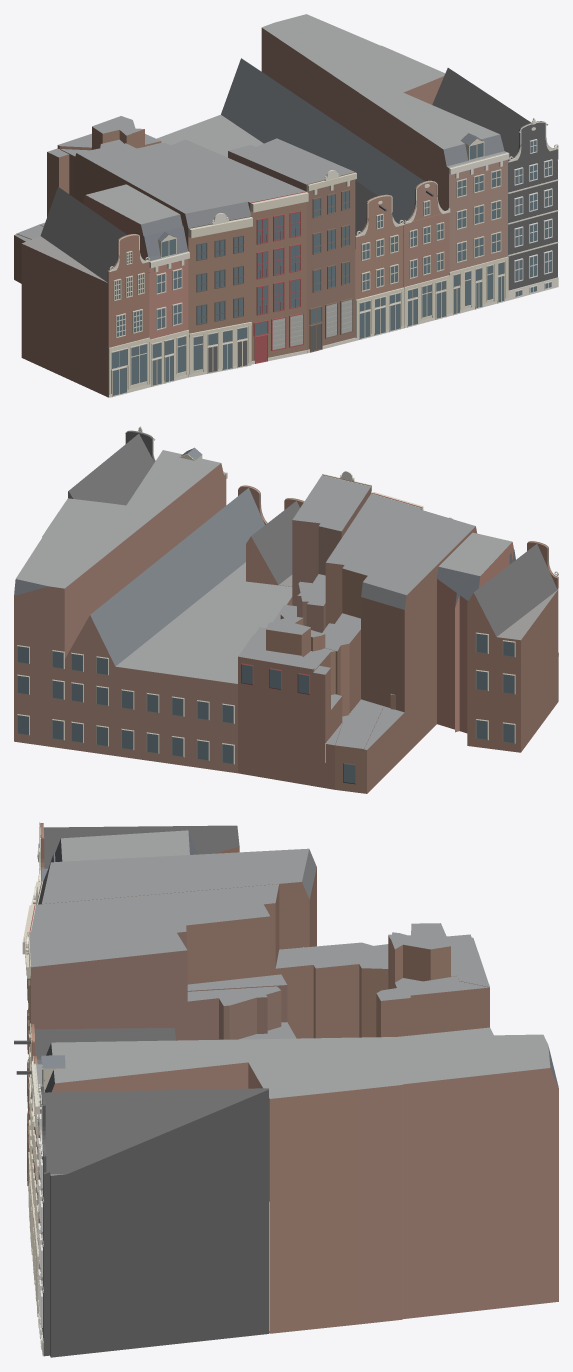
File: chunk-face-wallen-oza-41-57.glb
3 renders of one model, top to bottom at view 1: azimuth 30°, elevation 25°; view 2: azimuth 150°, elevation 25°; view 3: azimuth 270°, elevation 25°, orthographic. The views are drawn at different scales.
Parts seen in each view (by area): view 1: face-wallen-oza-41-57; view 2: face-wallen-oza-41-57; view 3: face-wallen-oza-41-57.
Part boxes in pixels (x1,y1,x2,y2): face-wallen-oza-41-57: (14,14,558,397); face-wallen-oza-41-57: (14,426,558,793); face-wallen-oza-41-57: (14,822,558,1357).
Size of the model in its own units: 48.63 by 17.27 by 33.34.
